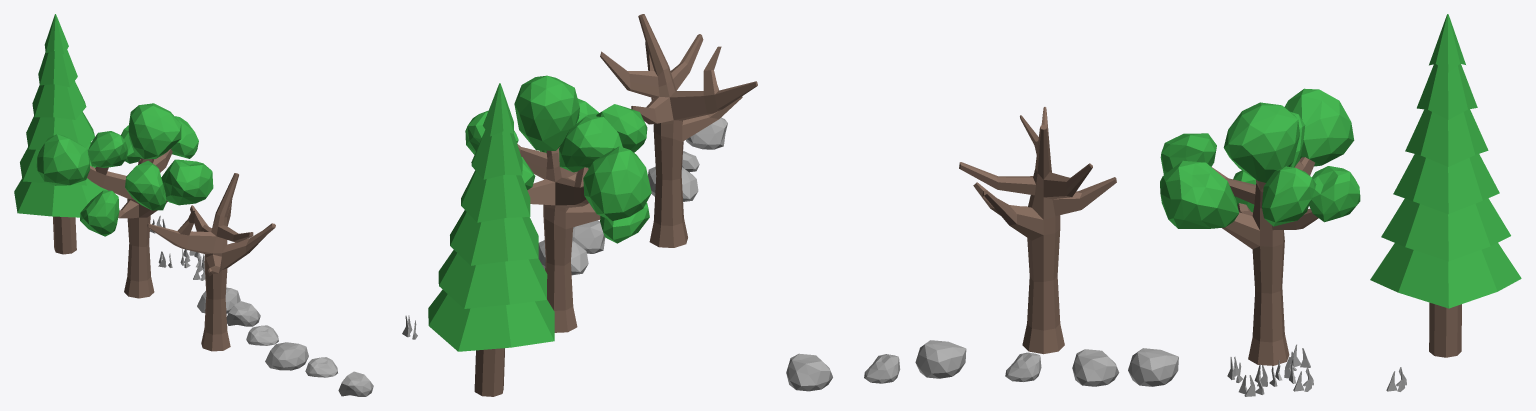
Rendered from Nature.fbx.
3 views of the same model, side by side, from view 1: azimuth 30°, elevation 25°; view 2: azimuth 150°, elevation 25°; view 3: azimuth 270°, elevation 25° (orthographic). The views are drawn at different scales.
Visible parts, largest first — view 1: polySurface52, polySurface61, polySurface39, polySurface31, polySurface35, polySurface50, polySurface49, polySurface33, polySurface8, polySurface36; view 2: polySurface61, polySurface52, polySurface39, polySurface50, polySurface35, polySurface36, polySurface31; view 3: polySurface52, polySurface61, polySurface39, polySurface8, polySurface36, polySurface31, polySurface50, polySurface35, polySurface49, polySurface33.
Boxes of the visible parts, bbox=[...] form: polySurface52: bbox=[36, 103, 213, 298]; polySurface61: bbox=[14, 14, 107, 254]; polySurface39: bbox=[147, 173, 275, 351]; polySurface31: bbox=[265, 342, 308, 370]; polySurface35: bbox=[338, 371, 373, 396]; polySurface50: bbox=[226, 301, 260, 326]; polySurface49: bbox=[246, 325, 278, 345]; polySurface33: bbox=[305, 357, 337, 377]; polySurface8: bbox=[158, 249, 205, 280]; polySurface36: bbox=[197, 287, 240, 313]; polySurface61: bbox=[428, 83, 554, 396]; polySurface52: bbox=[465, 75, 651, 332]; polySurface39: bbox=[600, 14, 757, 247]; polySurface50: bbox=[572, 220, 605, 253]; polySurface35: bbox=[686, 117, 727, 149]; polySurface36: bbox=[538, 240, 588, 275]; polySurface31: bbox=[648, 166, 698, 201]; polySurface52: bbox=[1160, 88, 1360, 365]; polySurface61: bbox=[1370, 14, 1521, 357]; polySurface39: bbox=[959, 107, 1116, 354]; polySurface8: bbox=[1227, 344, 1313, 396]; polySurface36: bbox=[1128, 348, 1178, 386]; polySurface31: bbox=[915, 340, 966, 378]; polySurface50: bbox=[1072, 349, 1119, 386]; polySurface35: bbox=[786, 353, 832, 391]; polySurface49: bbox=[1005, 352, 1041, 381]; polySurface33: bbox=[864, 354, 900, 383].
Bounding box in the file's own units: 3.59 × 5.01 × 10.08.
